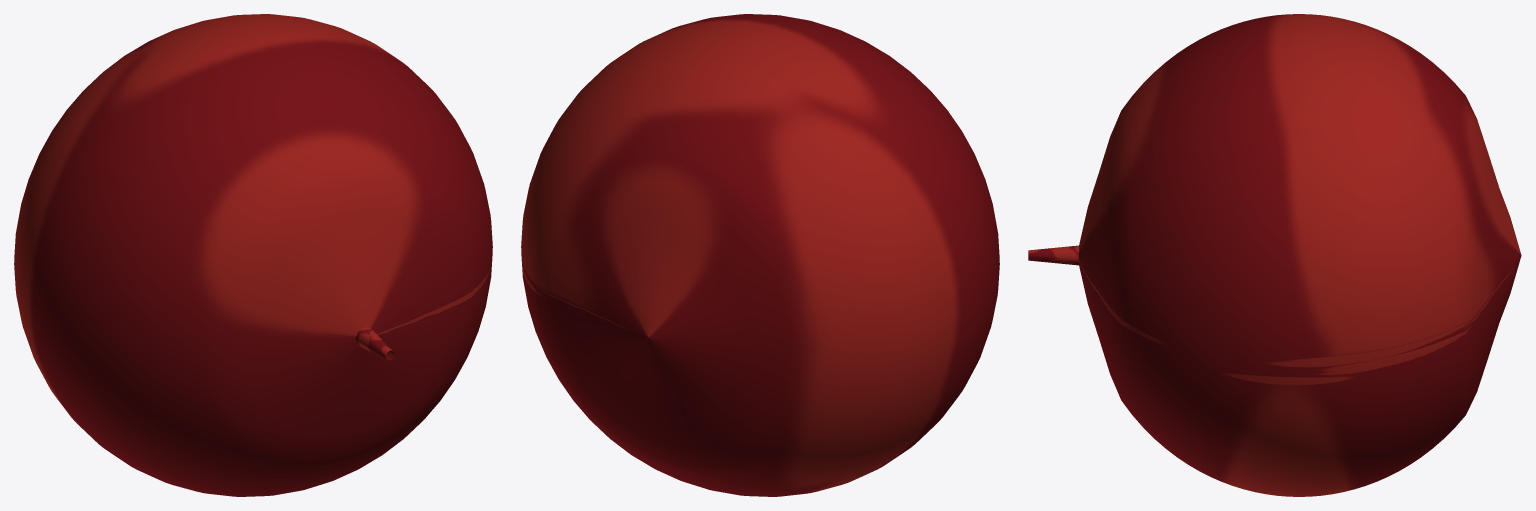
The model's file is apple_03_v2.obj.
3 views of the same model, side by side, from view 1: azimuth 30°, elevation 25°; view 2: azimuth 150°, elevation 25°; view 3: azimuth 270°, elevation 25° (orthographic).
Size of the model in its own units: 2 by 2 by 2.04.
Materials: 1 (1 with a texture image).
